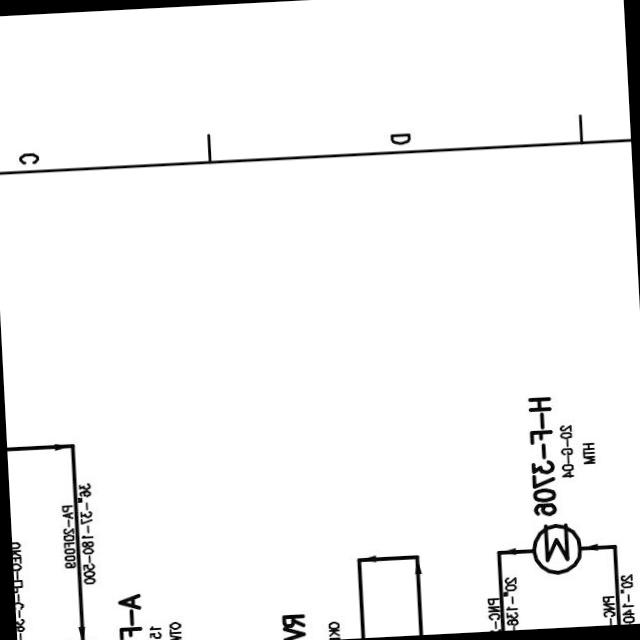HE: (526, 521, 584, 577)
